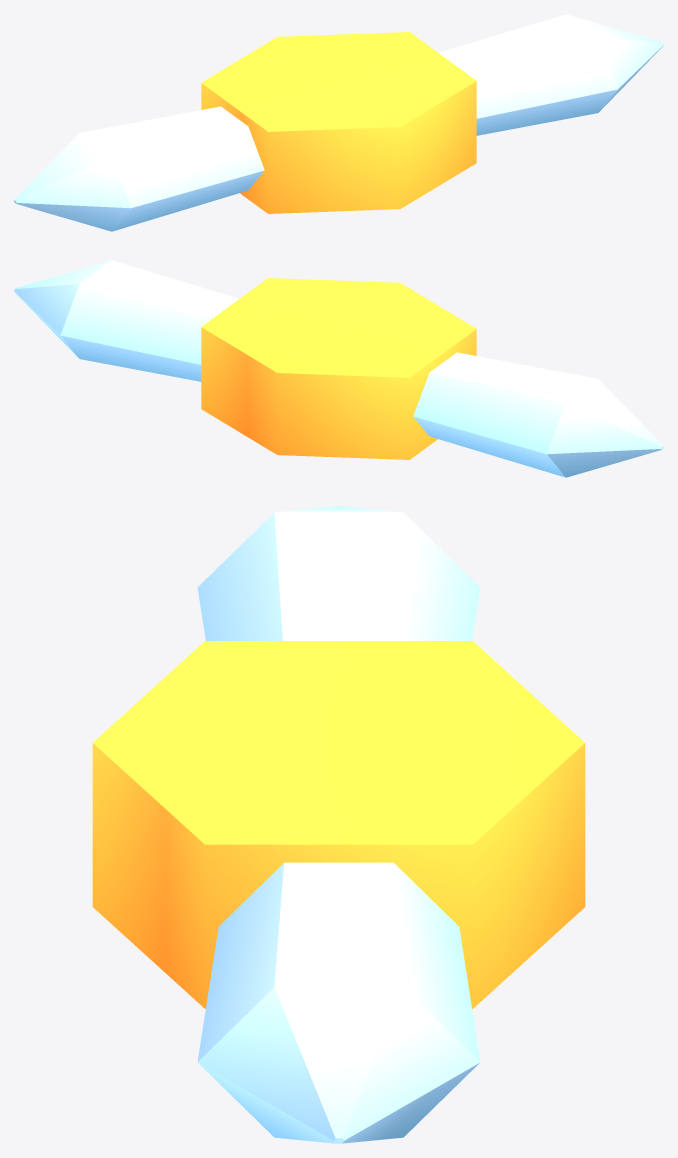
File: gold_and_steel_guard_032.glb
3 views of the same model, one above another, from view 1: azimuth 30°, elevation 25°; view 2: azimuth 150°, elevation 25°; view 3: azimuth 270°, elevation 25° (orthographic). The views are drawn at different scales.
Visible parts, largest first — view 1: gold_and_steel_guard_032; view 2: gold_and_steel_guard_032; view 3: gold_and_steel_guard_032.
Part boxes in pixels (x1,y1,x2,y2): gold_and_steel_guard_032: [14, 14, 663, 231]; gold_and_steel_guard_032: [14, 260, 663, 477]; gold_and_steel_guard_032: [92, 506, 585, 1143].
Bounding box in the file's own units: 9.73 × 1.18 × 3.21.
Materials: 1 (1 with a texture image).
